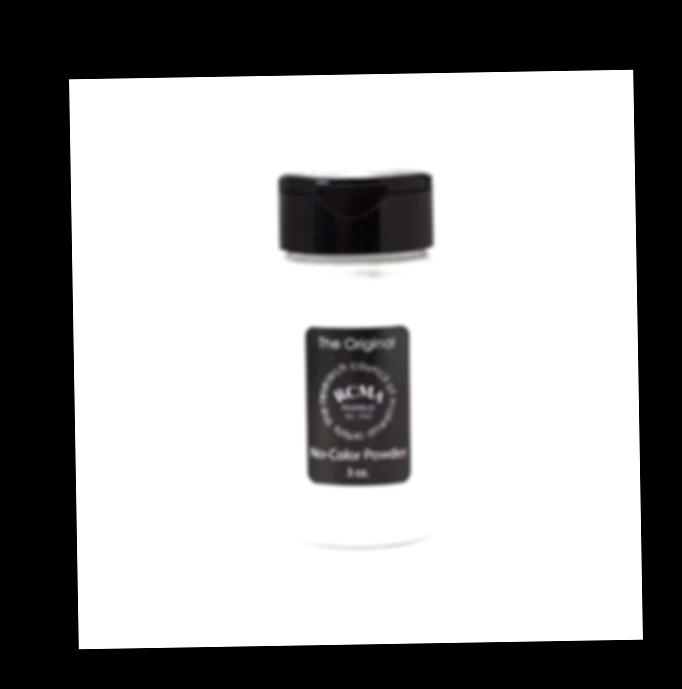cosmetic: (271, 169, 446, 544)
